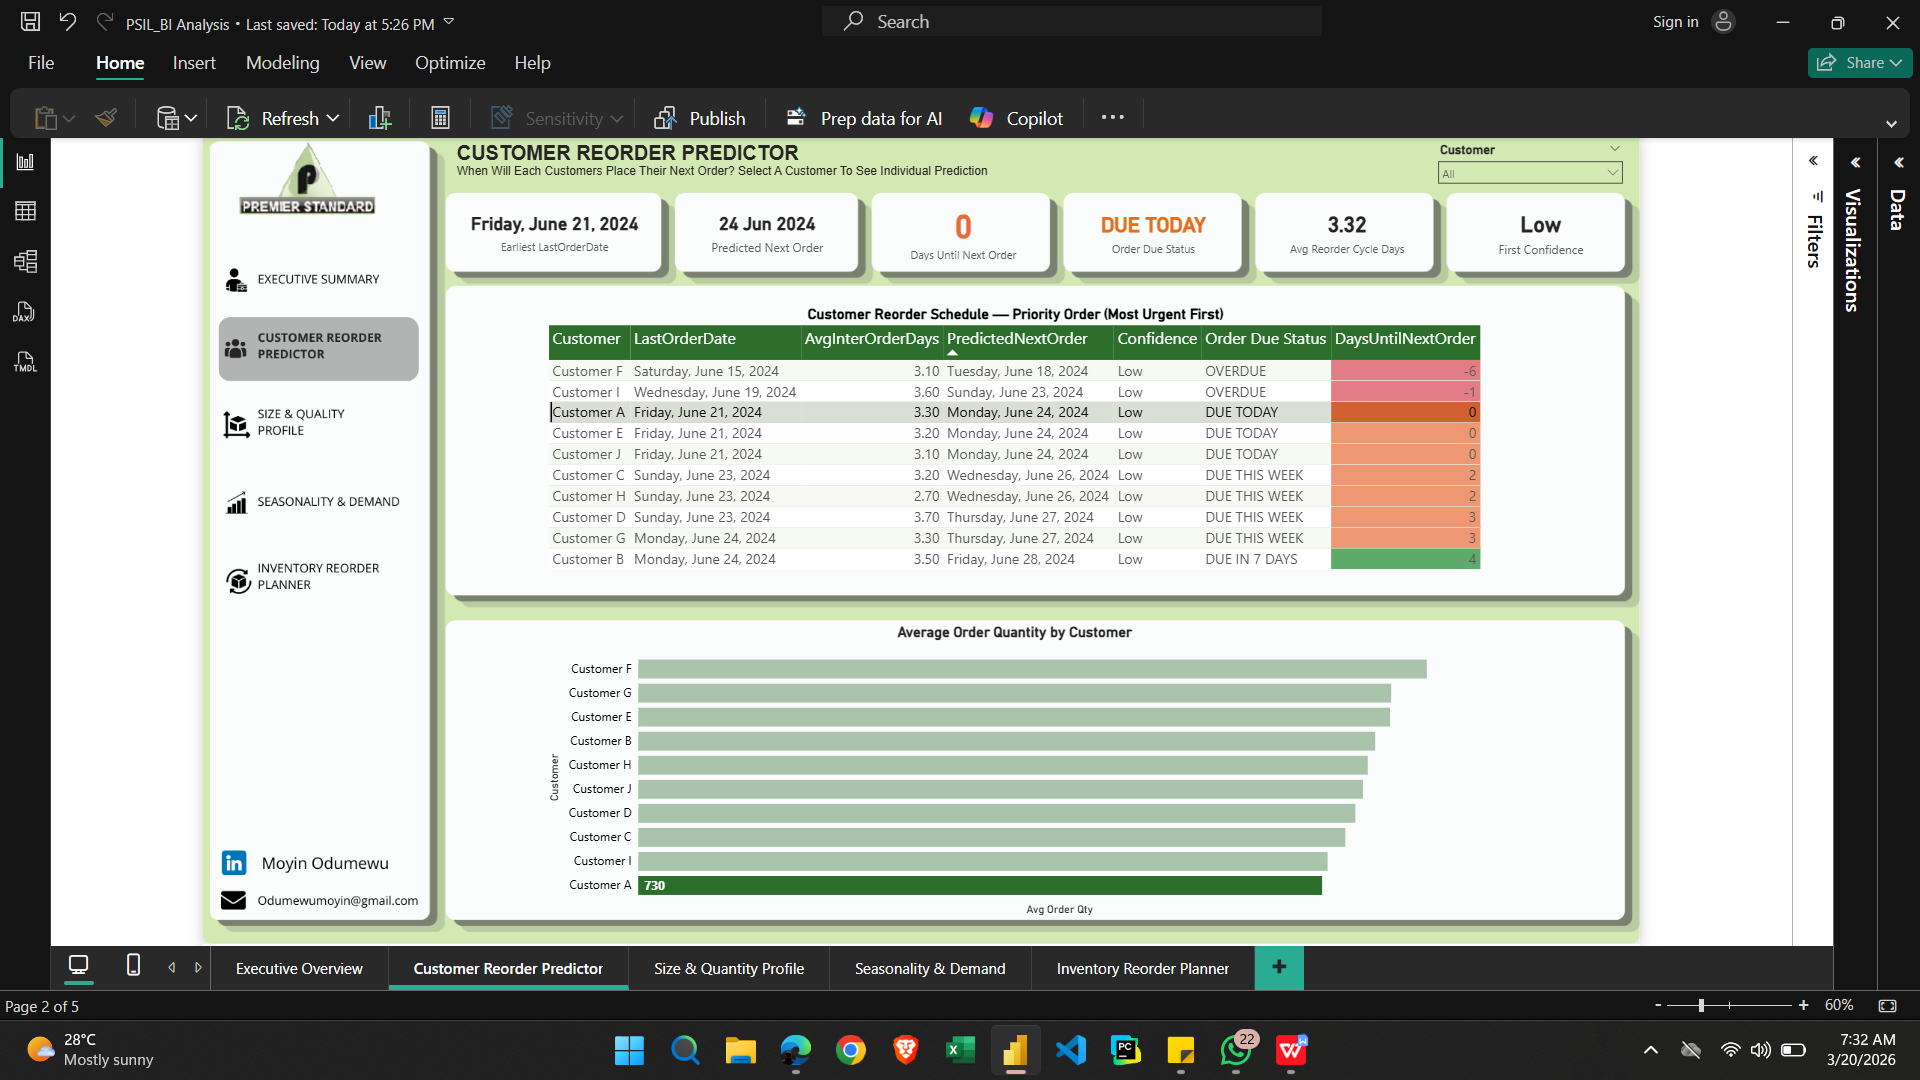

The dashboard page shown, as its layout file describes it:
{"tool":"powerbi","page":{"name":"Customer Reorder Predictor","canvas":[1920,1080],"ordinal":1},"visuals":[{"type":"slicer","title":"Customer","fields":{"Values":["CalcReorderProfile.Customer"]},"box":[1639.9,0,266.9,64.4],"z":0},{"type":"card","title":"Last Order Date","fields":{"Values":["Min(CalcReorderProfile.LastOrderDate)"]},"box":[332.3,80.1,275.5,88.5],"z":1000},{"type":"card","fields":{"Values":["Table.Predicted Next Order"]},"box":[637.9,80.1,232.1,88.5],"z":2000},{"type":"card","fields":{"Values":["Table.Days Until Next Order"]},"box":[906.7,80.1,218.7,88.5],"z":3000},{"type":"card","title":"Customer Reorder Schedule — Priority Order","fields":{"Values":["Table.Order Due Status"]},"box":[1165.5,80.1,208.7,88.5],"z":4000},{"type":"card","fields":{"Values":["Table.Avg Reorder Cycle Days"]},"box":[1431,80.1,195.4,88.5],"z":5000},{"type":"card","fields":{"Values":["Min(CalcReorderProfile.Confidence)"]},"box":[1698.2,80.1,178.7,88.5],"z":6000},{"type":"tableEx","title":"Customer Reorder Schedule — Priority Order (Most Urgent First)","fields":{"Values":["CalcReorderProfile.Customer","CalcReorderProfile.LastOrderDate","CalcReorderProfile.AvgInterOrderDays","CalcReorderProfile.PredictedNextOrder","CalcReorderProfile.Confidence","Table.Order Due Status","CalcReorderProfile.DaysUntilNextOrder"]},"box":[456.4,224.5,1258.9,381],"z":7000},{"type":"clusteredBarChart","title":"Average Order Quantity by Customer","fields":{"Category":["CalcReorderProfile.Customer"],"Y":["Table.Avg Order Qty"]},"box":[456.4,649.7,1257.1,393.9],"z":8000},{"type":"textbox","box":[333.1,0,725.2,64.4],"z":9000}]}

Visuals, with their boxes on the page's 1920x1080 design canvas (x1, y1, x2, y2). These are canvas units, not pixel positions in the 1920x1080 screenshot, which may show the page scaled, cropped or inside an application window:
"Customer" slicer: 1640 0 1907 64
"Last Order Date" card: 332 80 608 169
card - Table.Predicted Next Order: 638 80 870 169
card - Table.Days Until Next Order: 907 80 1125 169
"Customer Reorder Schedule — Priority Order" card: 1166 80 1374 169
card - Table.Avg Reorder Cycle Days: 1431 80 1626 169
card - Min(CalcReorderProfile.Confidence): 1698 80 1877 169
"Customer Reorder Schedule — Priority Order (Most Urgent First)" tableEx: 456 224 1715 606
"Average Order Quantity by Customer" clusteredBarChart: 456 650 1714 1044
textbox: 333 0 1058 64
